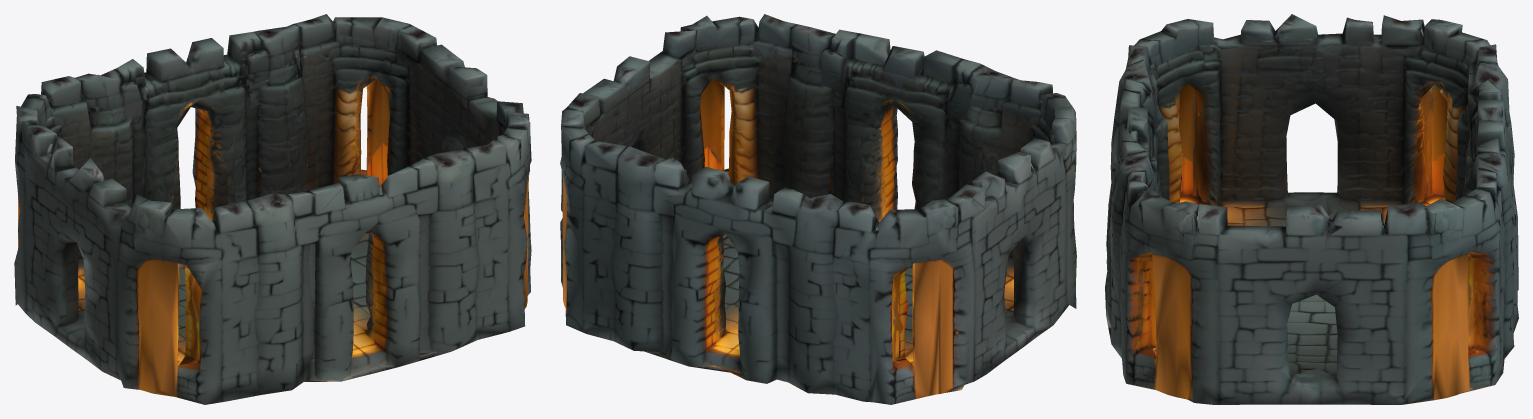
File: dungeon.glb
The picture shows the model from 3 angles, left to right: view 1: azimuth 30°, elevation 25°; view 2: azimuth 150°, elevation 25°; view 3: azimuth 270°, elevation 25°; orthographic projection. The views are drawn at different scales.
Parts seen in each view (by area): view 1: Mesh1.0; view 2: Mesh1.0; view 3: Mesh1.0.
Part boxes in pixels (left/top/right/bottom): Mesh1.0: left=14, top=14, right=531, bottom=404; Mesh1.0: left=560, top=14, right=1076, bottom=404; Mesh1.0: left=1105, top=14, right=1518, bottom=404.
Size of the model in its own units: 1.92 by 0.8445 by 1.66.
Materials: 1 (1 with a texture image).
